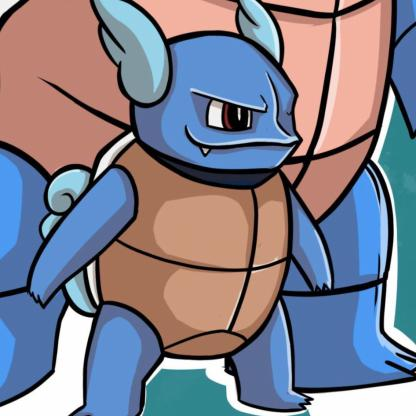Wartortle: (29, 17, 319, 416)
